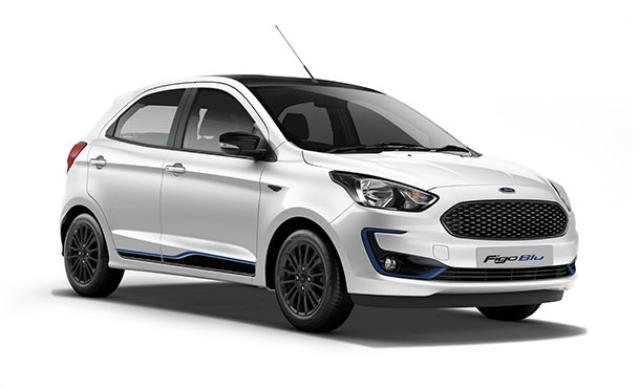ford: (58, 25, 580, 334)
